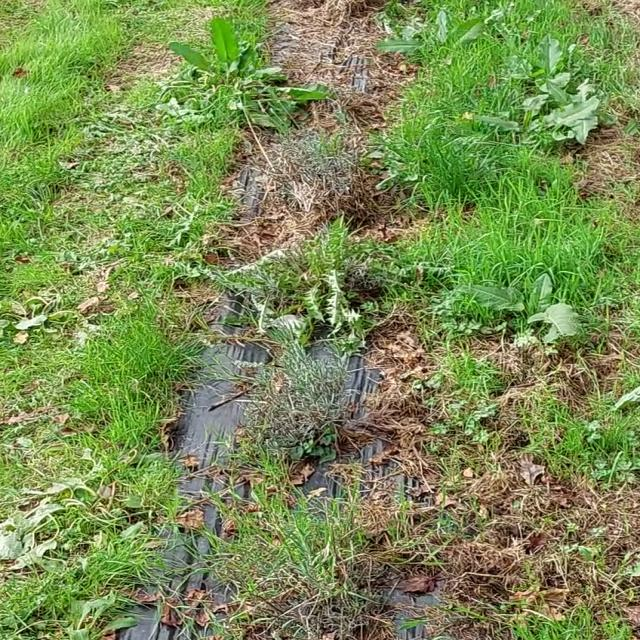organic waste: (142, 16, 348, 137), (0, 481, 134, 581), (507, 75, 626, 159), (458, 266, 580, 344), (482, 22, 595, 98), (389, 2, 503, 68), (450, 85, 550, 149), (0, 278, 98, 333)
